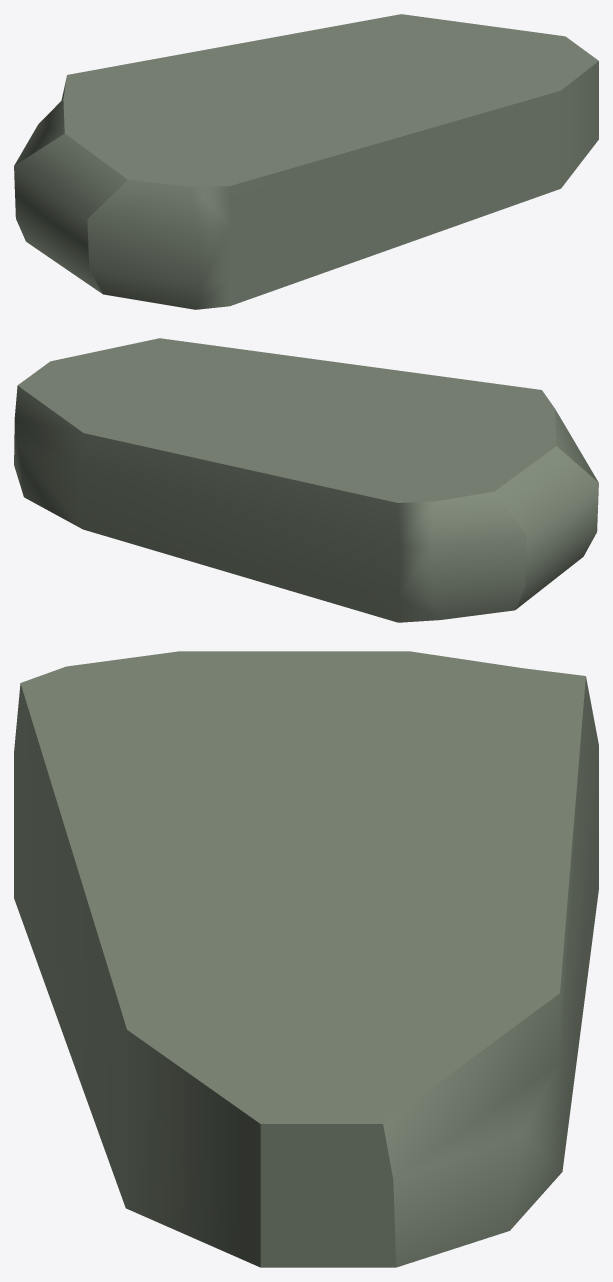
File: rock2.fbx
3 renders of one model, top to bottom at view 1: azimuth 30°, elevation 25°; view 2: azimuth 150°, elevation 25°; view 3: azimuth 270°, elevation 25°, orthographic. The views are drawn at different scales.
Parts seen in each view (by area): view 1: pCube1; view 2: pCube1; view 3: pCube1.
Part boxes in pixels (x1,y1,x2,y2): pCube1: [14, 14, 598, 309]; pCube1: [14, 338, 598, 622]; pCube1: [14, 651, 598, 1267].
Bounding box in the file's own units: 1.92 × 0.4051 × 0.9918.
